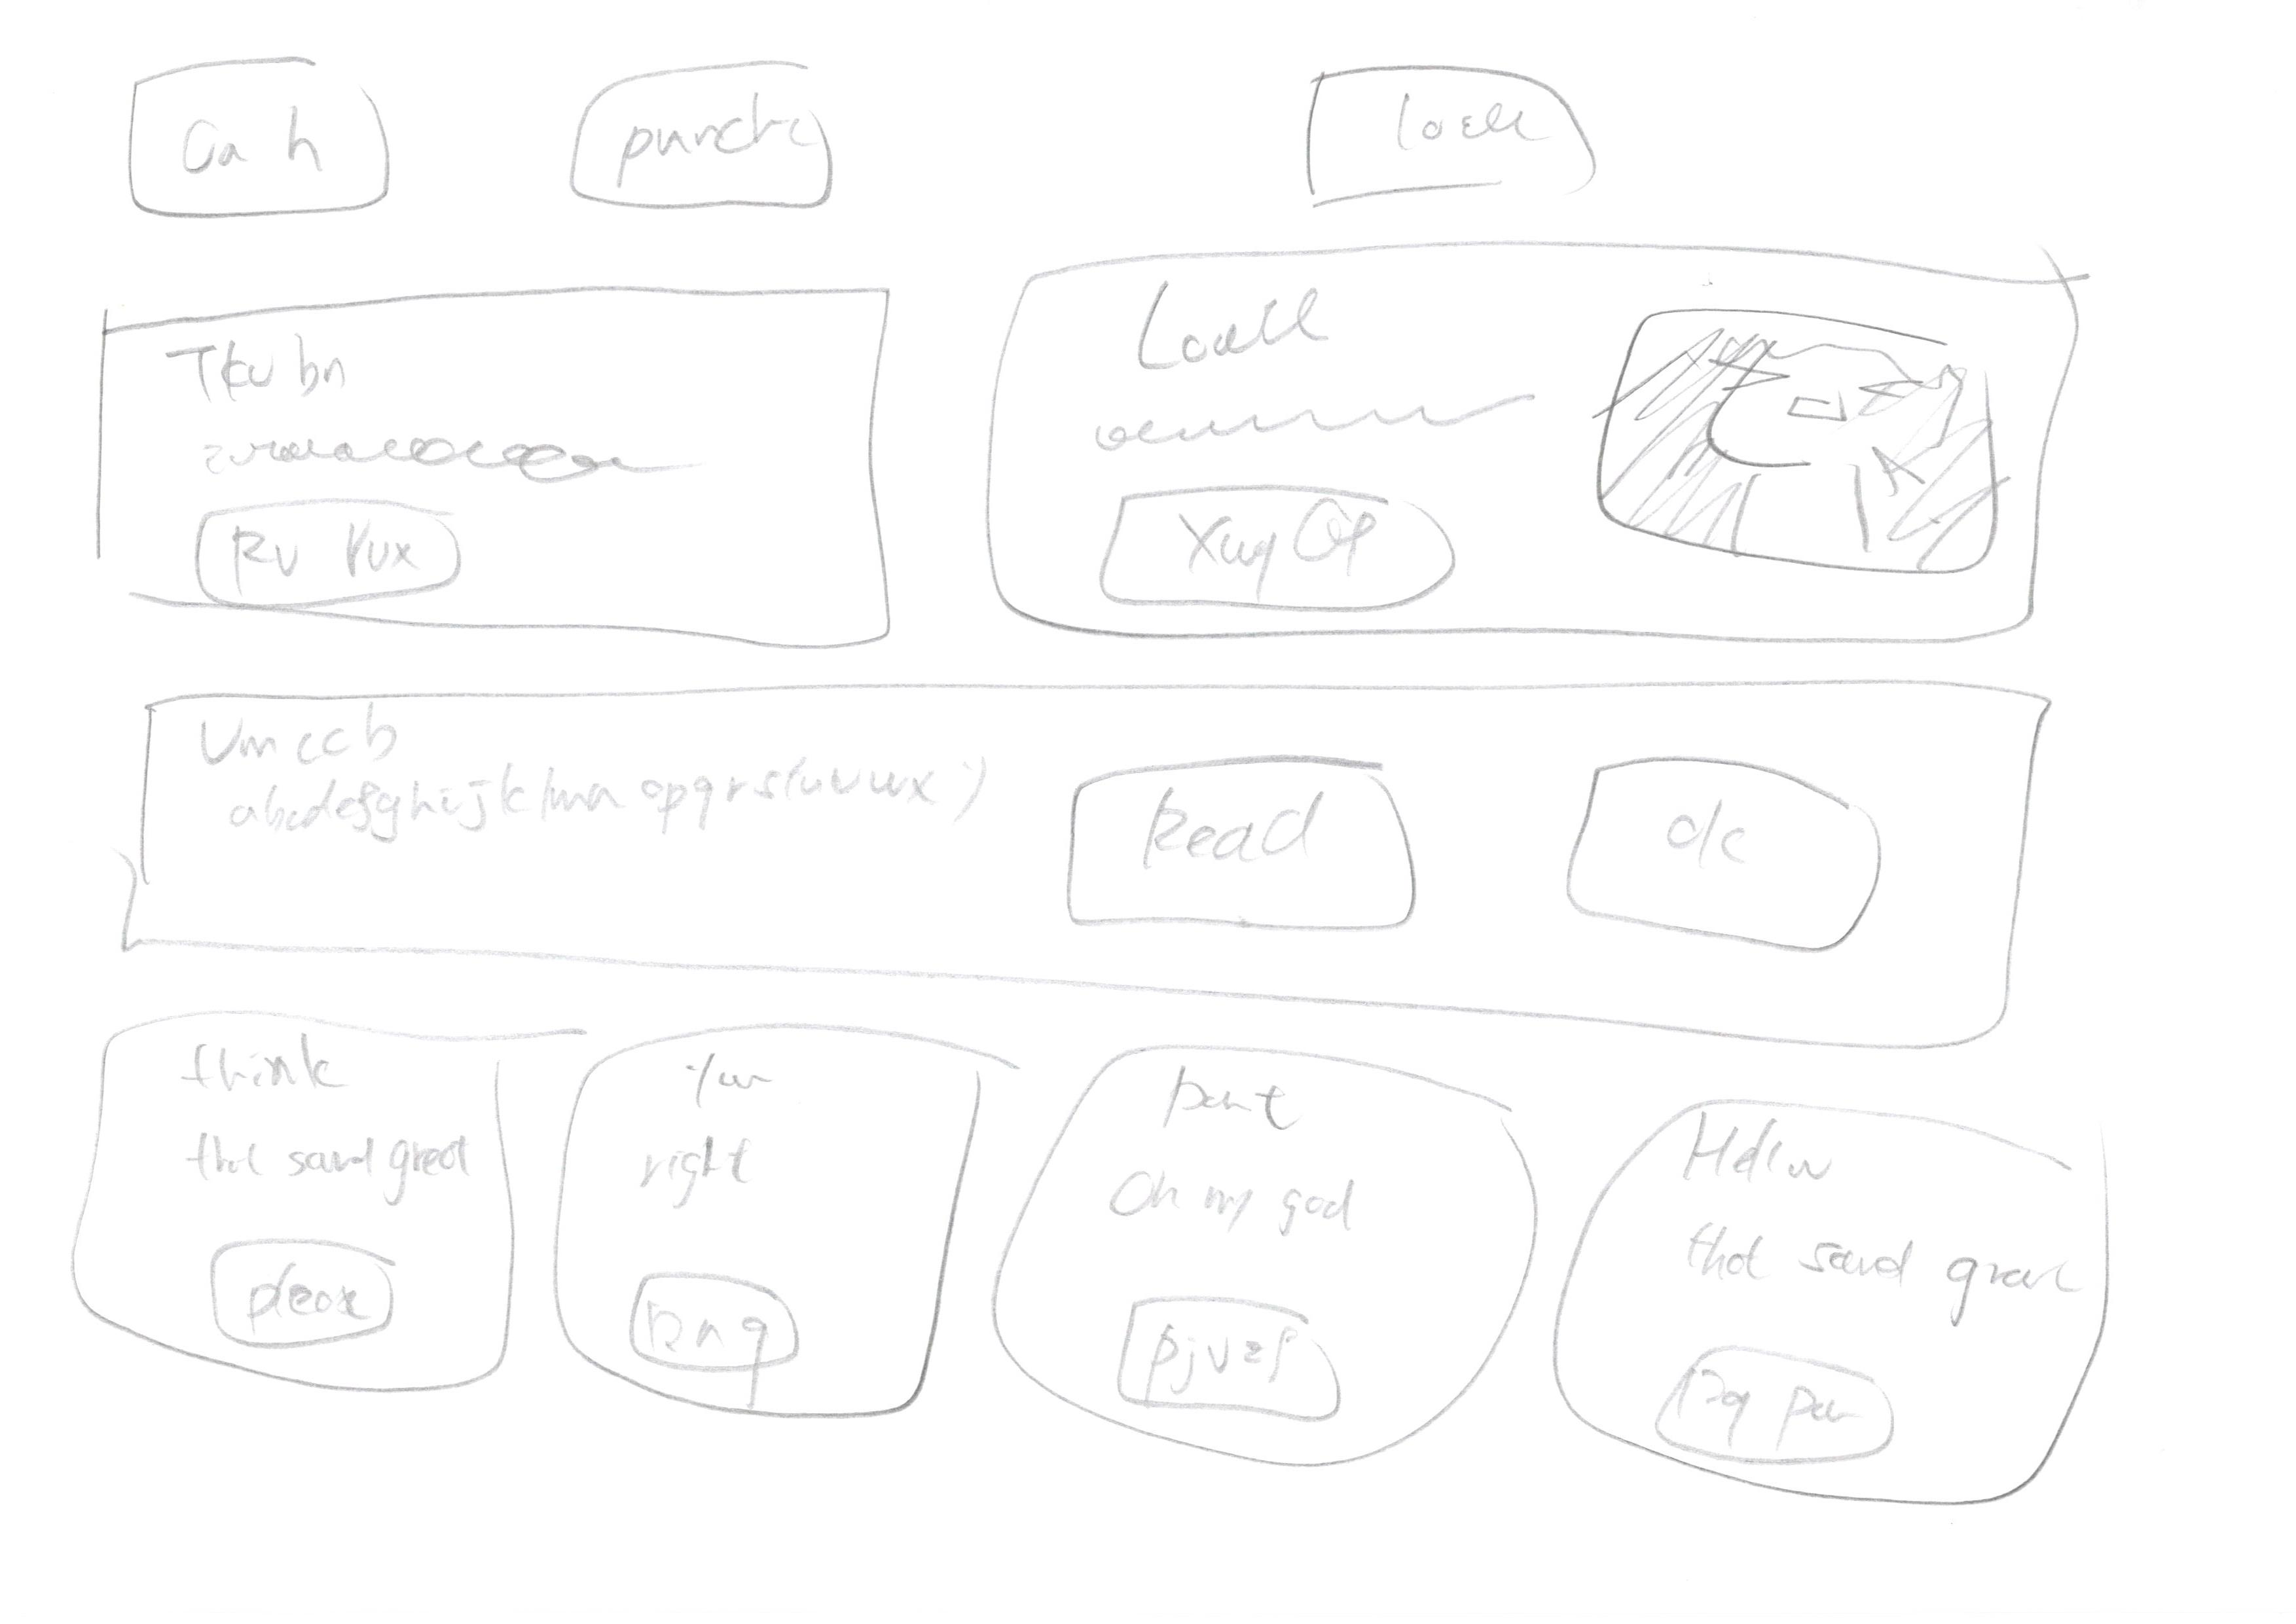btn-active: (1515, 735, 1929, 975), (1032, 729, 1450, 947), (1264, 35, 1649, 221), (91, 33, 424, 232), (559, 35, 870, 228), (1071, 473, 1475, 619), (1640, 1320, 1915, 1473), (1095, 1274, 1362, 1431), (171, 482, 476, 601), (174, 1225, 434, 1359), (628, 1232, 835, 1390)
double: (944, 221, 2203, 663), (39, 225, 990, 677)
quadruple: (960, 995, 1580, 1492), (1538, 1028, 2159, 1526), (33, 995, 552, 1487), (505, 988, 1023, 1478)
row: (54, 1007, 2140, 1519), (33, 652, 2196, 1062), (90, 237, 2152, 652), (49, 7, 2227, 234)
single: (91, 643, 2157, 1051)
small-title: (1120, 260, 1352, 376), (1675, 1098, 1888, 1200), (1148, 1067, 1364, 1149), (153, 332, 362, 401)
text: (185, 715, 999, 866), (178, 1032, 482, 1207), (1090, 378, 1595, 457), (178, 417, 691, 480), (640, 1039, 817, 1213), (1691, 1218, 2073, 1299), (1095, 1176, 1398, 1243)
